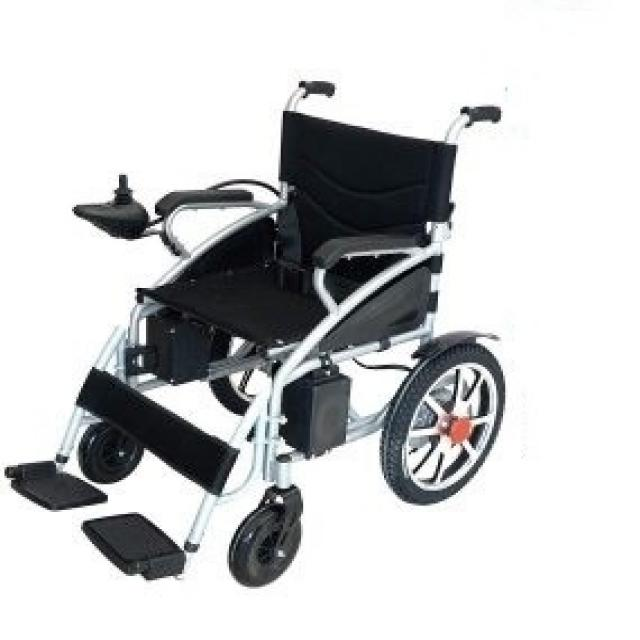wheelchair: (6, 64, 545, 606)
